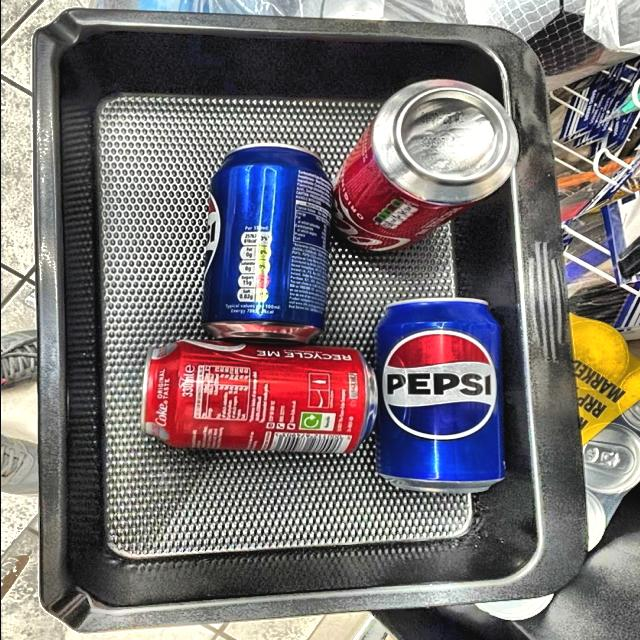coke-can: (138, 326, 390, 451), (338, 82, 504, 258)
pepsi-can: (202, 136, 346, 344), (355, 296, 497, 493)
